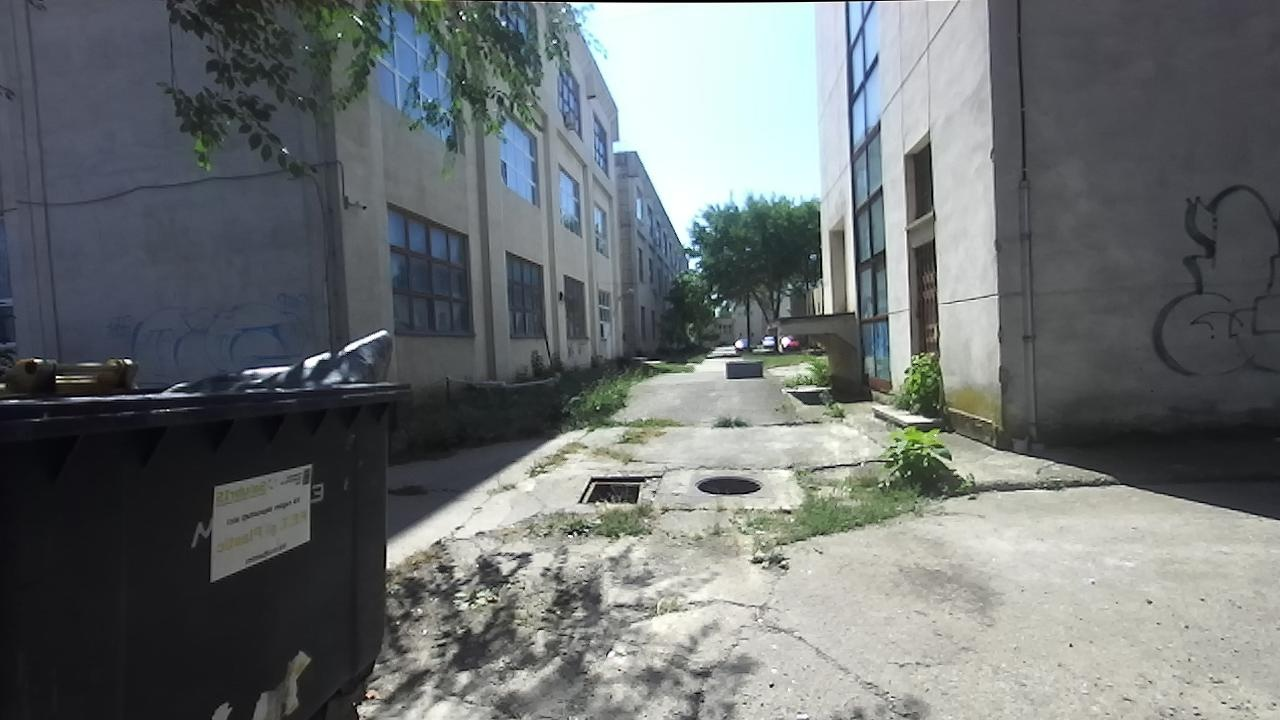drain: (574, 472, 647, 506), (694, 471, 766, 496)
